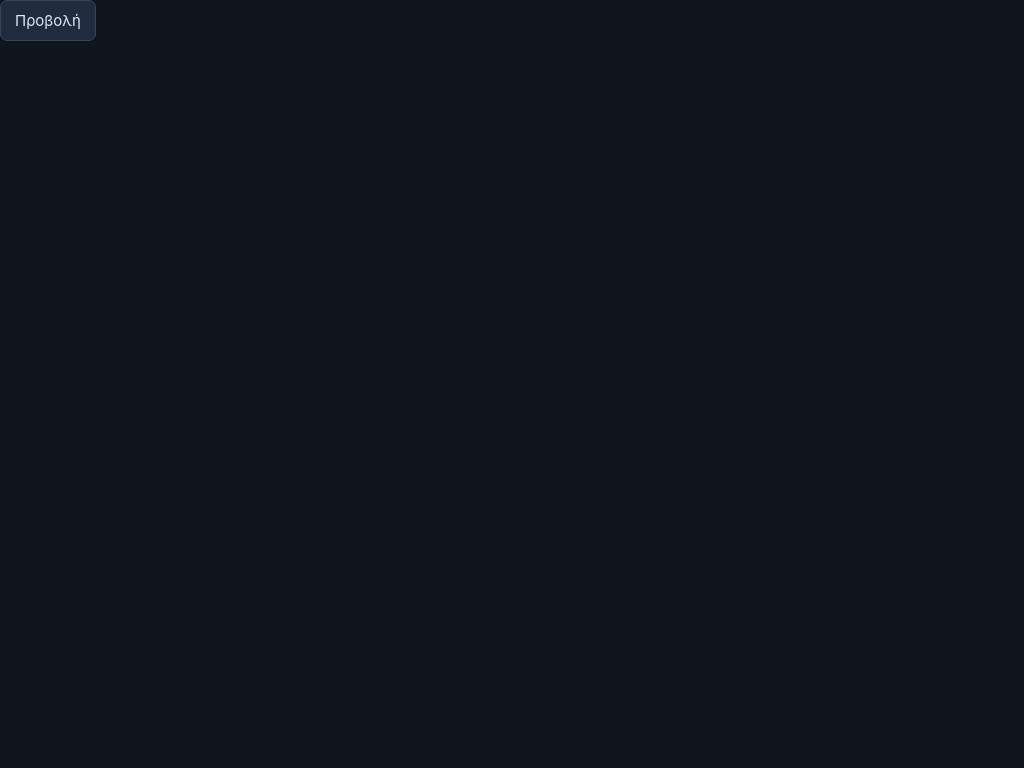
Test: safe file preview dialog › rejects forged image content rather than creating a student-origin embed
The width and height of the screenshot is (1024, 768).
Click the button "Προβολή".
click(48, 20)  # box [0, 0, 96, 41]
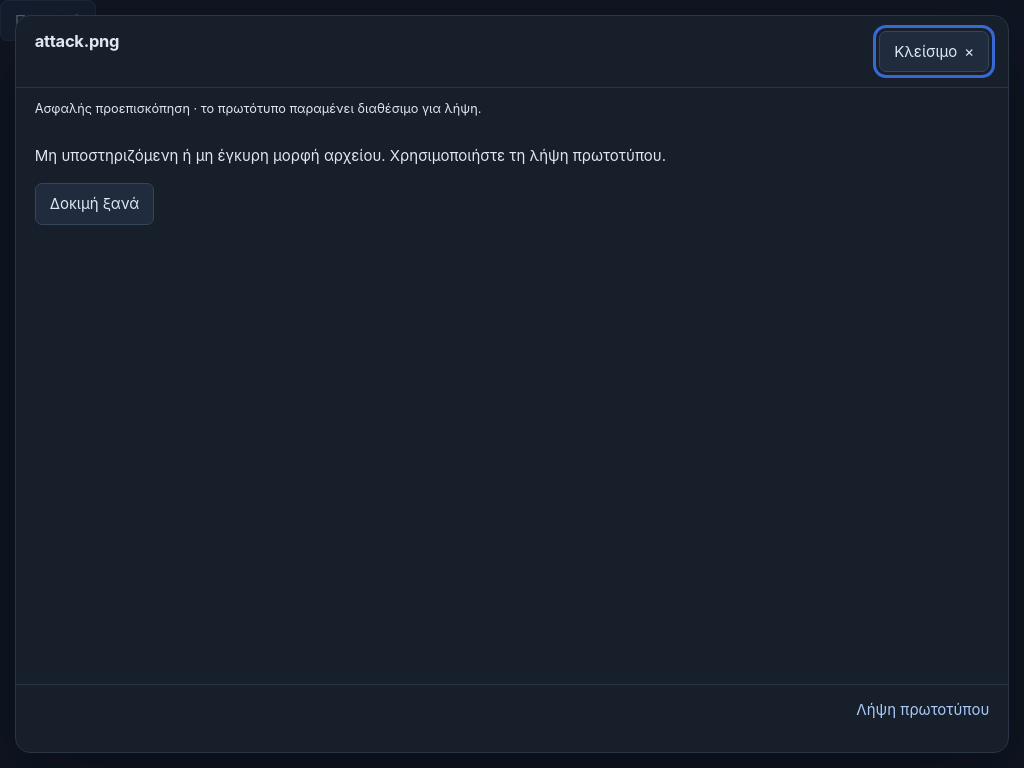
Result: the message shows "μορφή" at [35, 146, 666, 165]
